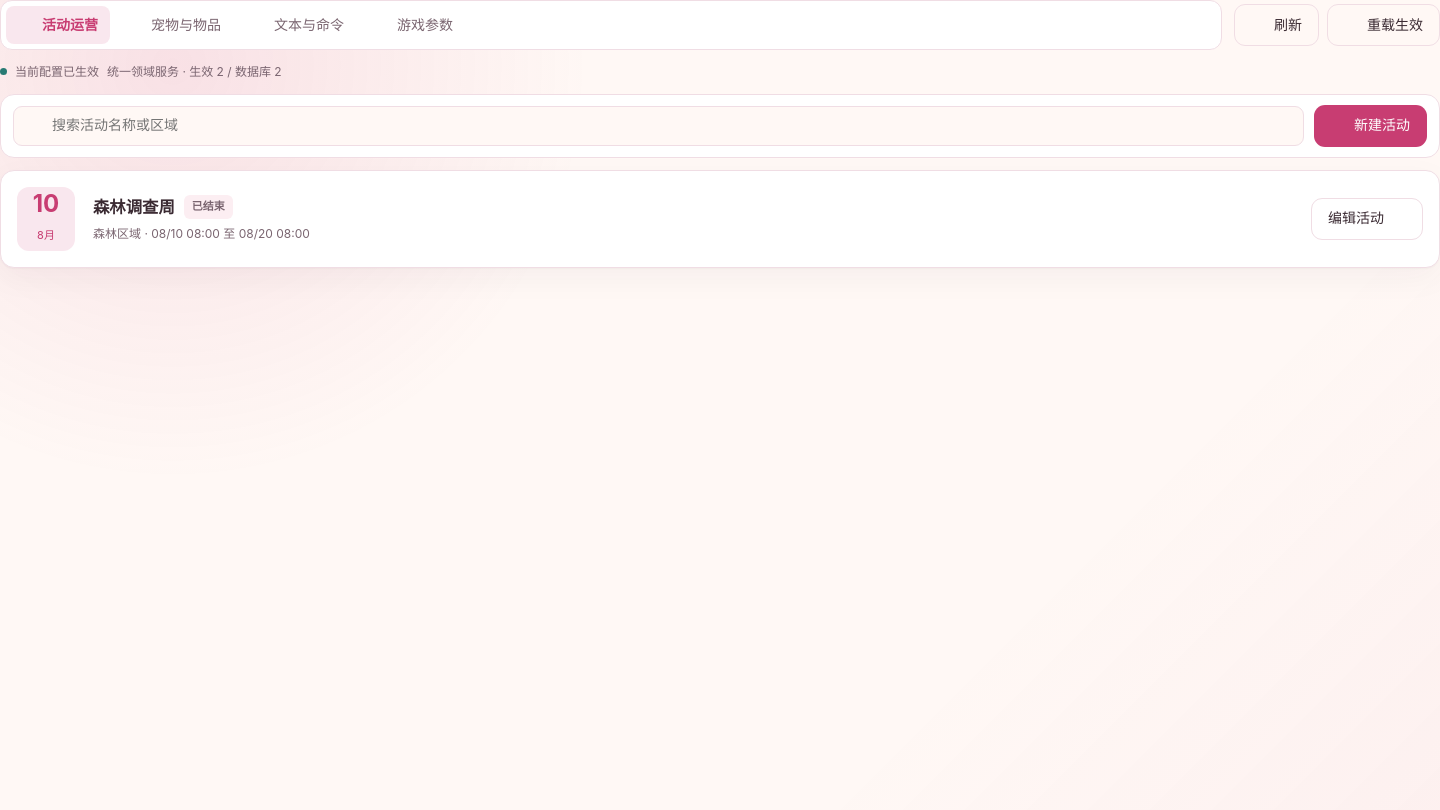
Scenario: ContentView 内容工作台 › 物品类型筛选会收缩列表，且未修改时不出现主保存按钮
Step 1. Click the button "宠物与物品" → (174, 25), box [115,6,233,44]
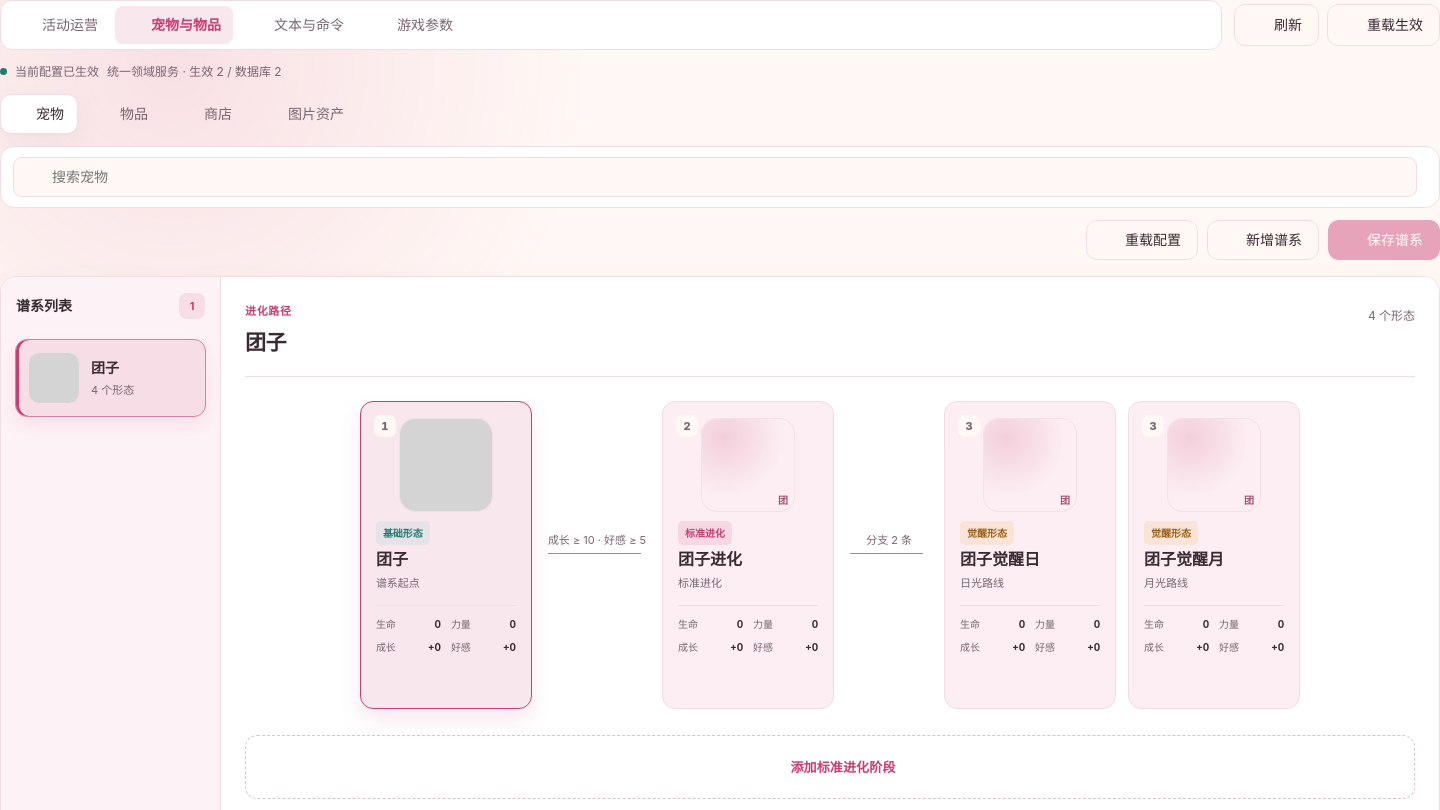
Result: the button "物品" is shown
Step 2. Click the button "物品" → (123, 114), box [84,94,162,134]
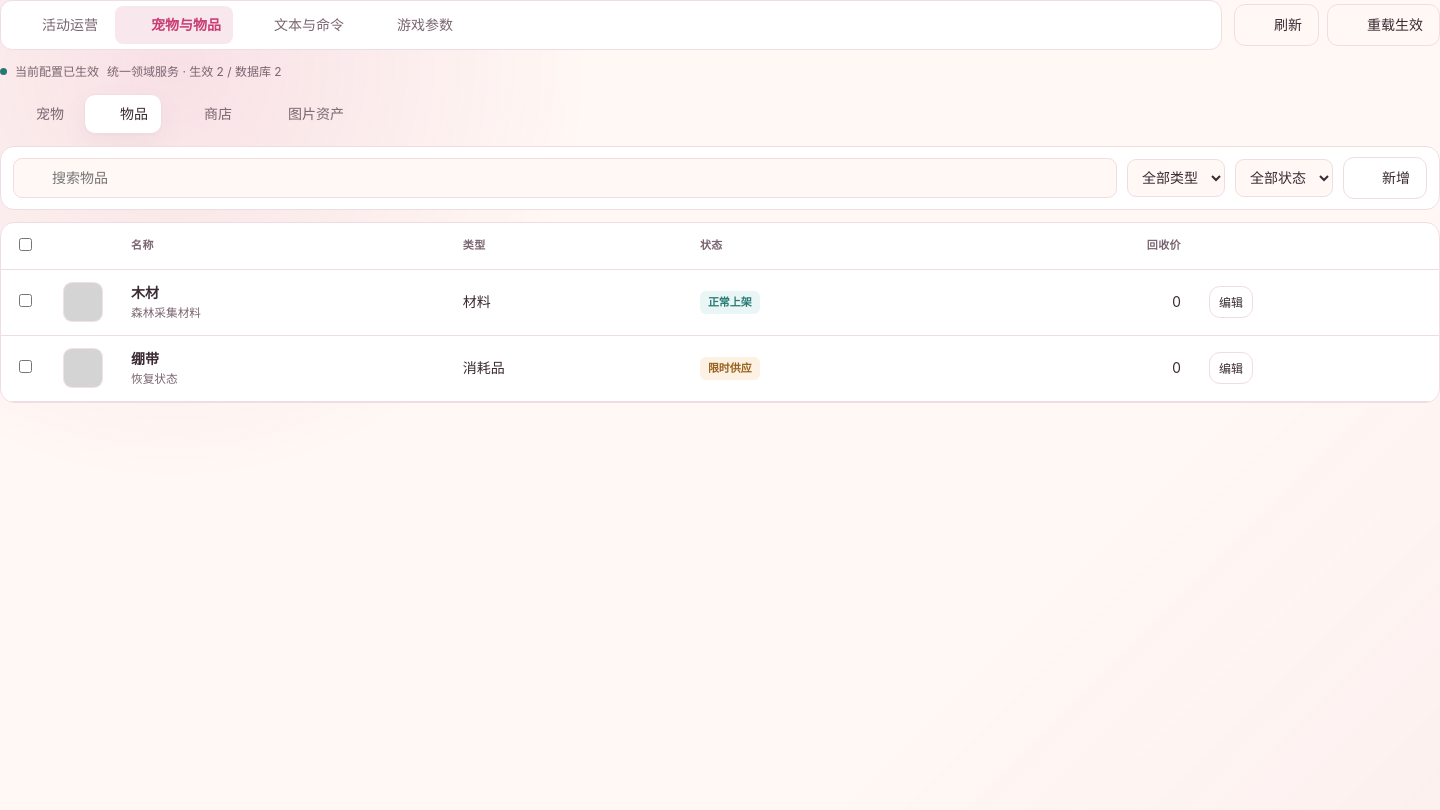
Result: the text "木材" is shown at [131,284,159,301]
Result: the text "绷带" is shown at [131,350,159,367]
Step 3. Select "材料" in the dropdown named "物品类型" → (1176, 178), box [1127,159,1225,197]
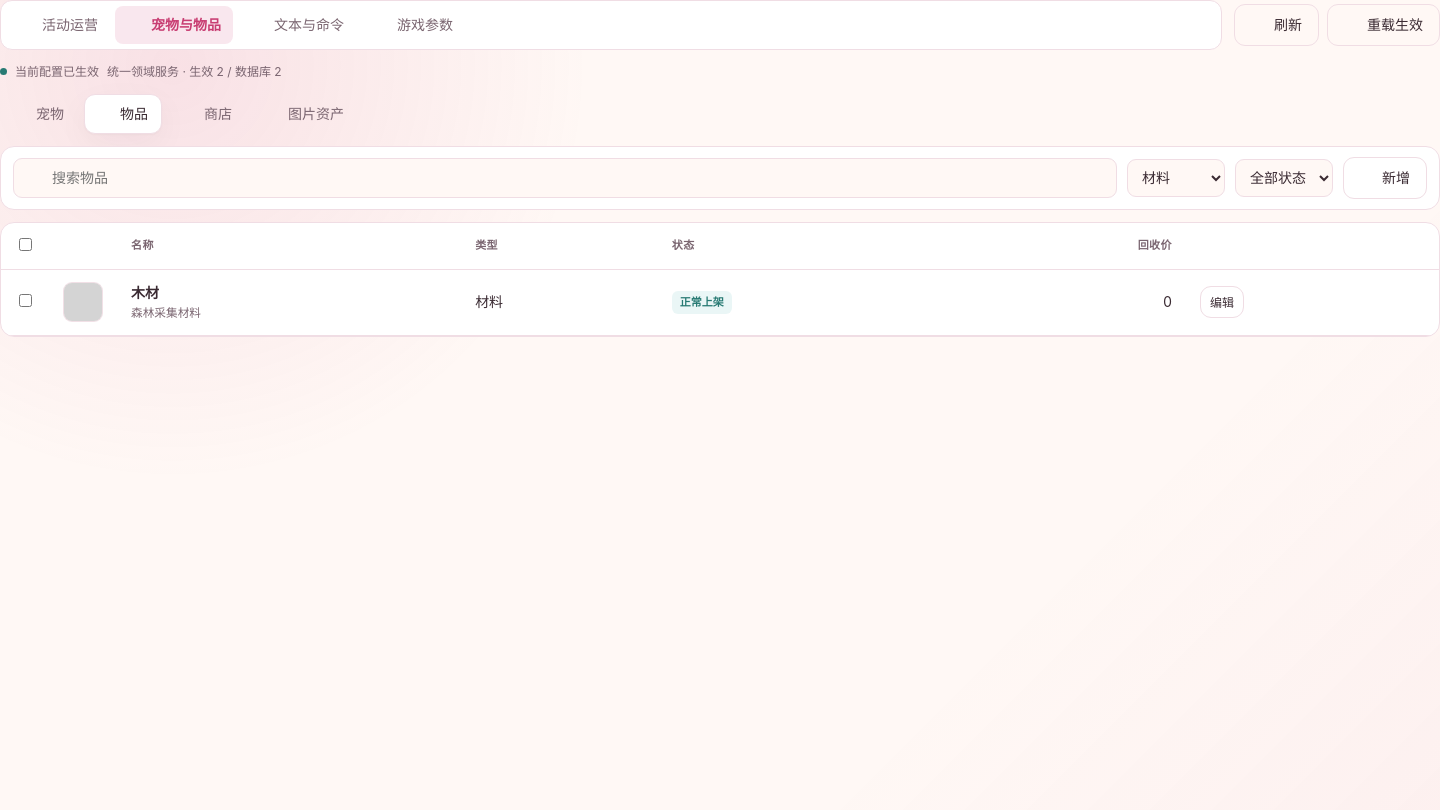
Result: the text "木材" is shown at [131,284,159,301]
Result: the text "绷带" is gone
